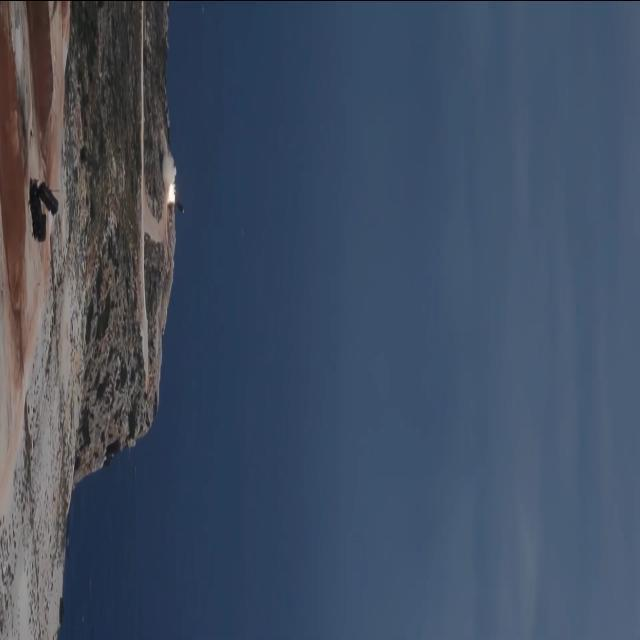Missile: (172, 197, 186, 216)
